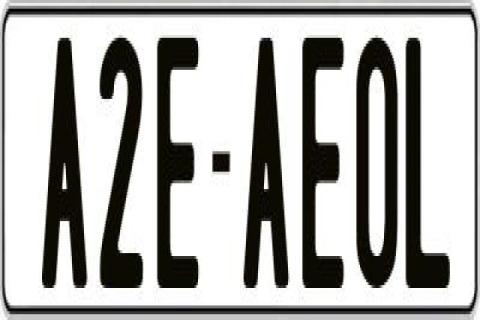0: (96, 32, 146, 300), (354, 35, 402, 294)
A: (240, 38, 292, 294), (40, 29, 88, 279)
E: (154, 32, 200, 291), (300, 35, 340, 291)
L: (404, 32, 450, 300)
